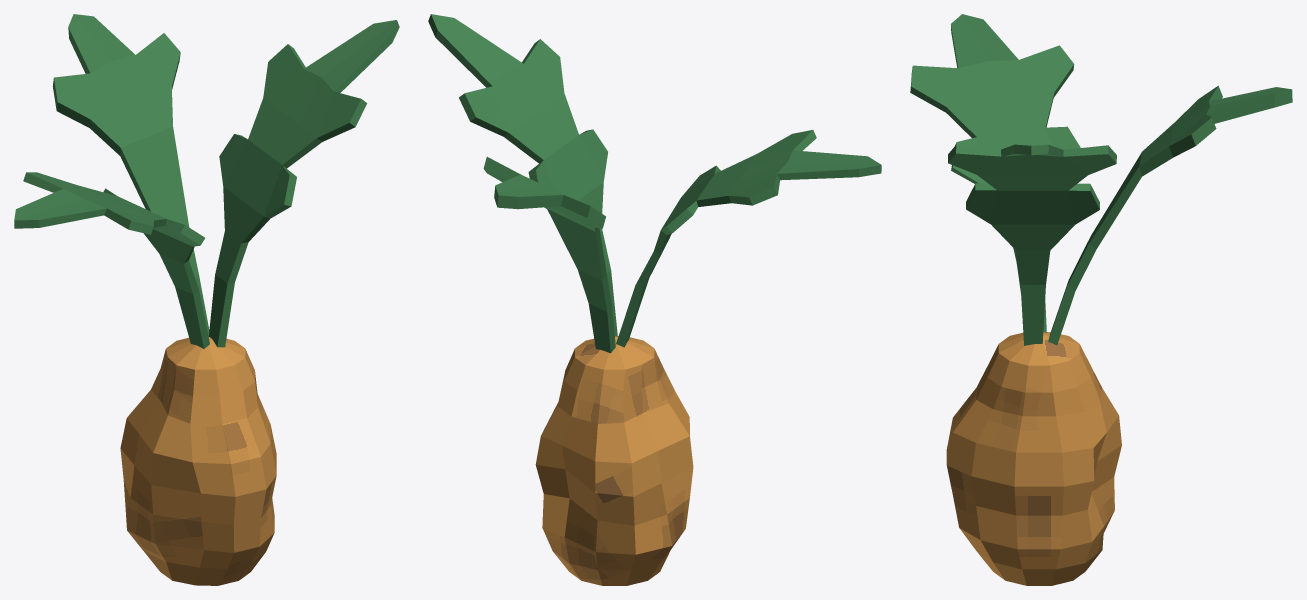
The model's file is Potato_3-optimized.glb.
3 renders of one model, left to right at view 1: azimuth 30°, elevation 25°; view 2: azimuth 150°, elevation 25°; view 3: azimuth 270°, elevation 25°, orthographic.
Parts seen in each view (by area): view 1: Carrot_3, sphere; view 2: Carrot_3, sphere; view 3: Carrot_3, sphere.
Part boxes in pixels (box(x1,y1,x2,y2)): Carrot_3: box(14, 14, 399, 348); sphere: box(120, 337, 276, 585); Carrot_3: box(428, 14, 881, 353); sphere: box(535, 336, 693, 585); Carrot_3: box(910, 14, 1292, 345); sphere: box(946, 332, 1121, 585).
Size of the model in its own units: 0.3336 by 0.3956 by 0.2582.
Materials: 2 (1 with a texture image).
